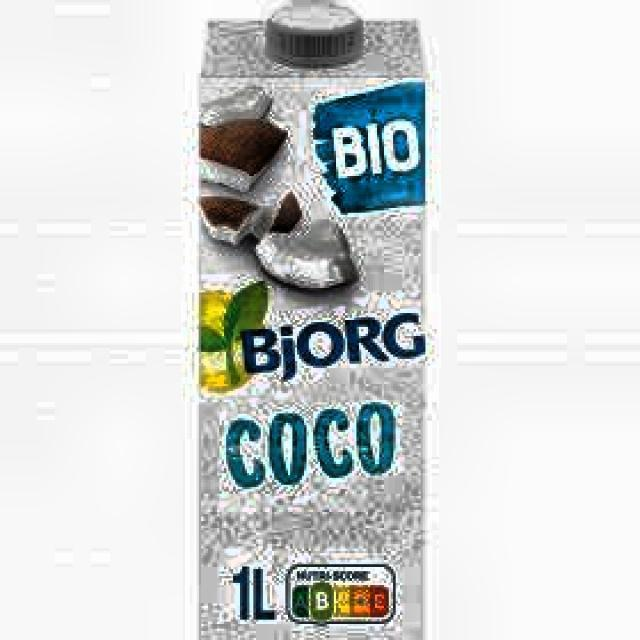cardboard: (194, 0, 430, 638)
